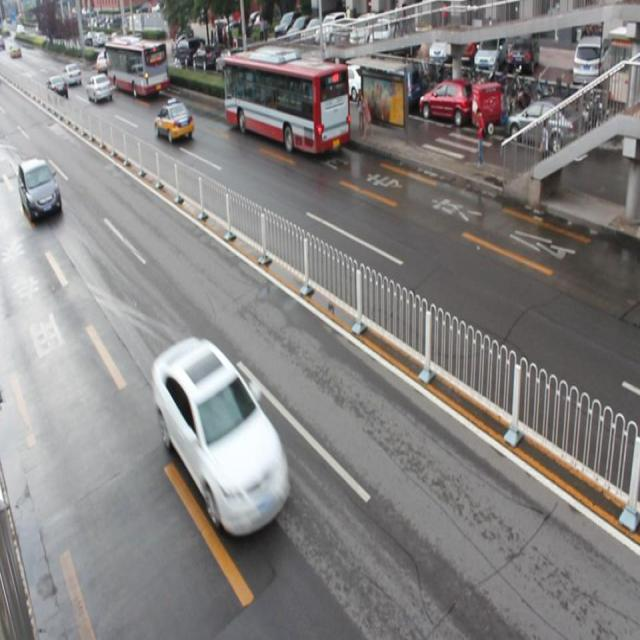car: (152, 335, 290, 536), (154, 100, 194, 144)
truck: (19, 154, 64, 224)
van: (223, 53, 350, 153)
